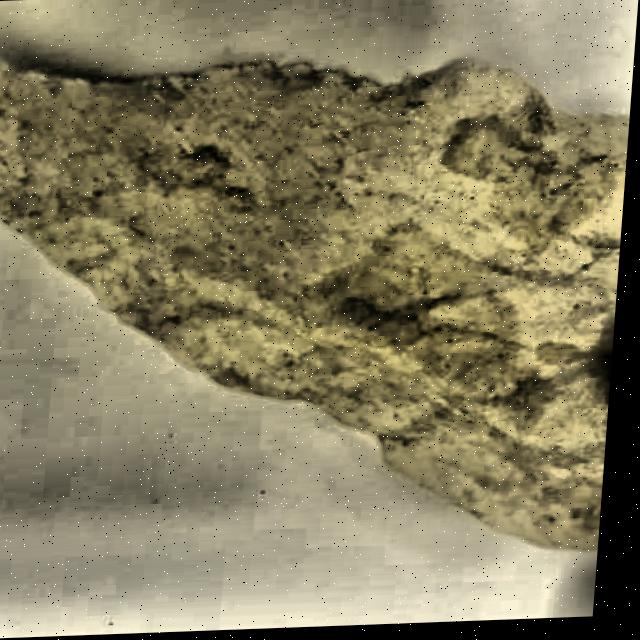paper: (0, 28, 635, 576)
